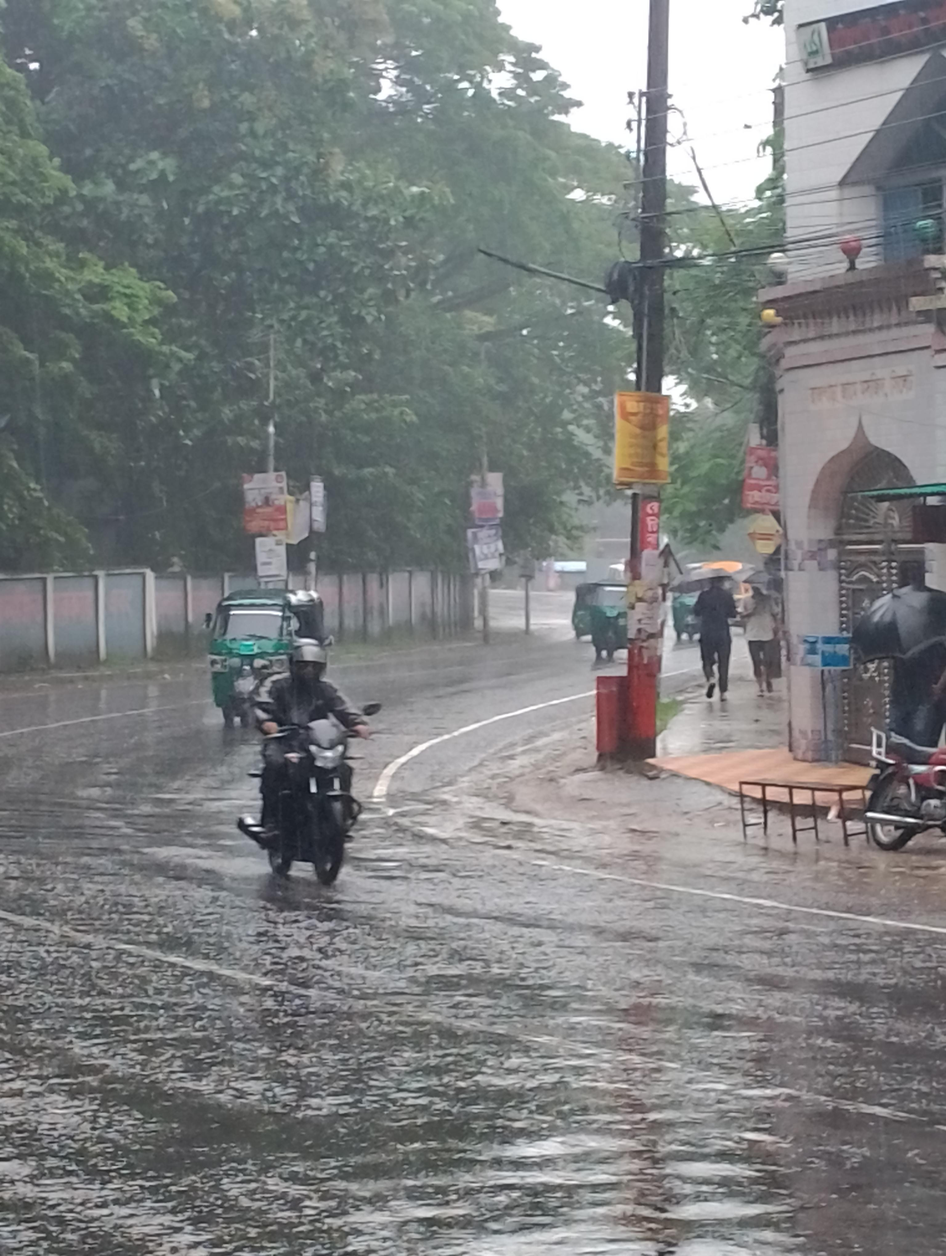Bike: (231, 626, 371, 896), (852, 701, 946, 872)
